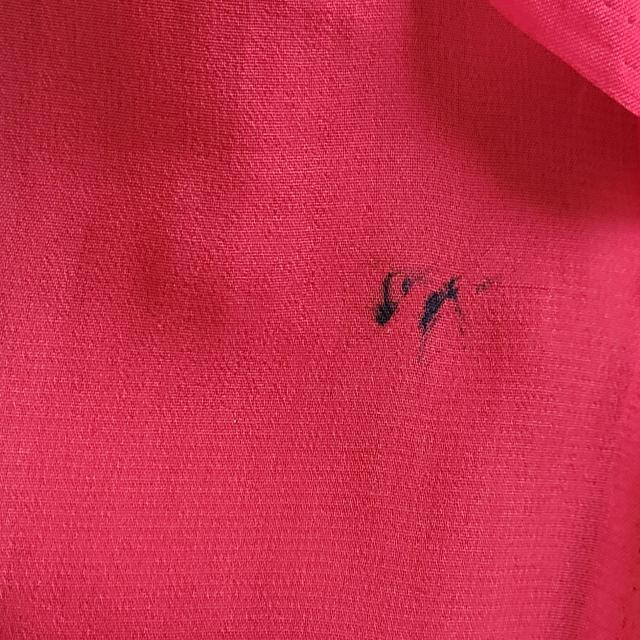defect: (366, 256, 511, 352)
